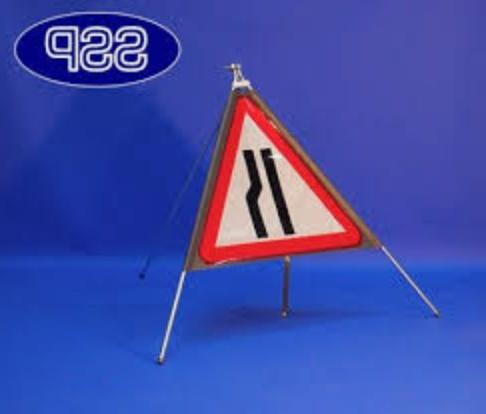narrow_road: (183, 90, 369, 262)
